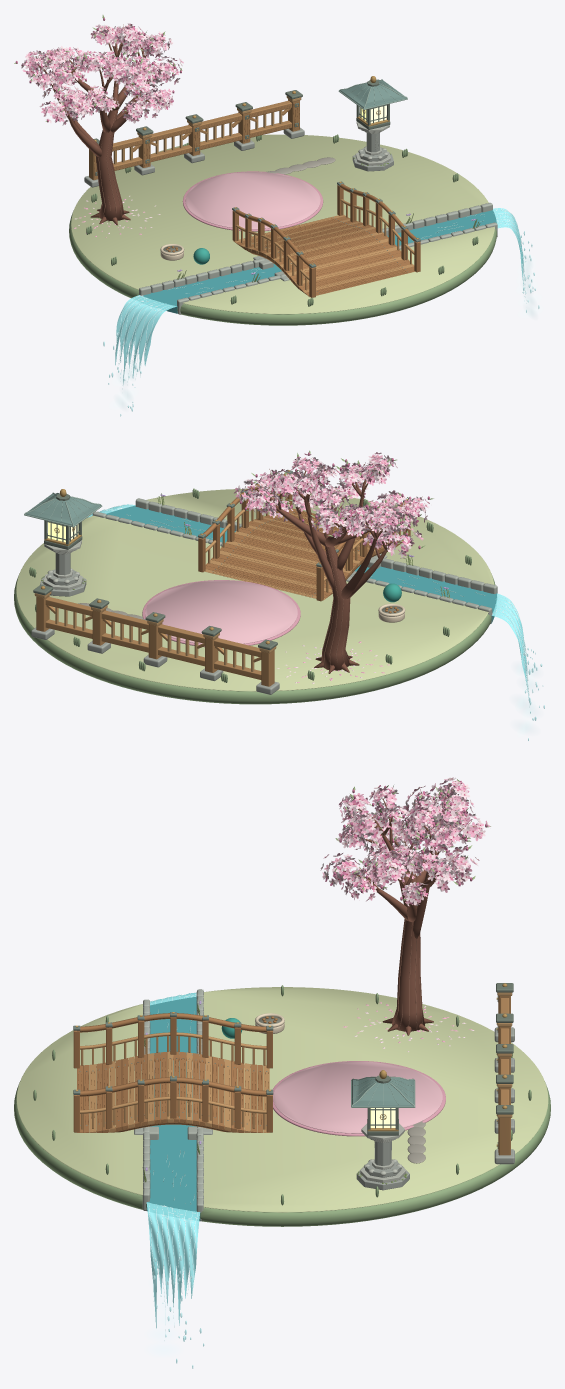
File: sakura.glb
The picture shows the model from 3 angles, top to bottom: view 1: azimuth 30°, elevation 25°; view 2: azimuth 150°, elevation 25°; view 3: azimuth 270°, elevation 25°; orthographic projection. The views are drawn at different scales.
Visible parts, largest first — view 1: Sakura_S_grass.004, River_v1_Bridge_cedar.001, Sakura_S_rug.004, Sakura_v2_Petal_pearl, Sakura_S_edge.004, Sakura_v2_Petal_blush, Garden_v3_Honey_cedar.001, River_v1_Bridge_board_alternate.001, Sakura_v2_Bark_warm_umber, River_v1_River_bank_stone.001, River_v1_River_jade_water.001, River_v1_Bridge_grain.001 (+11 smaller); view 2: Sakura_S_grass.004, Sakura_S_edge.004, Sakura_S_rug.004, River_v1_Bridge_cedar.001, Sakura_v2_Petal_pearl, Garden_v3_Honey_cedar.001, Sakura_v2_Bark_warm_umber, Sakura_v2_Petal_blush, River_v1_Bridge_board_alternate.001, River_v1_River_bank_stone.001, River_v1_River_jade_water.001, Garden_v3_Warm_grey_granite.001 (+13 smaller); view 3: Sakura_S_grass.004, River_v1_Bridge_cedar.001, Sakura_S_edge.004, Sakura_v2_Petal_pearl, Sakura_S_rug.004, Sakura_v2_Petal_blush, River_v1_Bridge_board_alternate.001, River_v1_River_jade_water.001, Sakura_v2_Bark_warm_umber, River_v1_River_bank_stone.001, Sakura_v2_Petal_rose, Garden_v3_Warm_grey_granite.001 (+8 smaller).
Boxes of the visible parts, x1=… form: Sakura_S_grass.004: x1=71, y1=134, x2=494, y2=314; River_v1_Bridge_cedar.001: x1=232, y1=184, x2=420, y2=297; Sakura_S_rug.004: x1=185, y1=172, x2=320, y2=229; Sakura_v2_Petal_pearl: x1=21, y1=23, x2=182, y2=233; Sakura_S_edge.004: x1=69, y1=134, x2=496, y2=325; Sakura_v2_Petal_blush: x1=21, y1=23, x2=183, y2=237; Garden_v3_Honey_cedar.001: x1=89, y1=99, x2=299, y2=180; River_v1_Bridge_board_alternate.001: x1=233, y1=199, x2=414, y2=293; Sakura_v2_Bark_warm_umber: x1=35, y1=24, x2=173, y2=225; River_v1_River_bank_stone.001: x1=139, y1=202, x2=497, y2=314; River_v1_River_jade_water.001: x1=142, y1=210, x2=496, y2=313; River_v1_Bridge_grain.001: x1=252, y1=217, x2=407, y2=293; Sakura_S_grass.004: x1=16, y1=488, x2=494, y2=691; Sakura_S_edge.004: x1=14, y1=488, x2=495, y2=704; Sakura_S_rug.004: x1=145, y1=580, x2=297, y2=644; River_v1_Bridge_cedar.001: x1=198, y1=472, x2=410, y2=601; Sakura_v2_Petal_pearl: x1=236, y1=454, x2=429, y2=683; Garden_v3_Honey_cedar.001: x1=36, y1=595, x2=274, y2=686; Sakura_v2_Bark_warm_umber: x1=251, y1=453, x2=422, y2=673; Sakura_v2_Petal_blush: x1=234, y1=452, x2=429, y2=682; River_v1_Bridge_board_alternate.001: x1=204, y1=493, x2=405, y2=600; River_v1_River_bank_stone.001: x1=92, y1=498, x2=497, y2=623; River_v1_River_jade_water.001: x1=106, y1=505, x2=496, y2=623; Garden_v3_Warm_grey_granite.001: x1=31, y1=553, x2=279, y2=694; Sakura_S_grass.004: x1=16, y1=987, x2=548, y2=1212; River_v1_Bridge_cedar.001: x1=73, y1=1013, x2=272, y2=1132; Sakura_S_edge.004: x1=14, y1=985, x2=550, y2=1226; Sakura_v2_Petal_pearl: x1=320, y1=777, x2=488, y2=1051; Sakura_S_rug.004: x1=273, y1=1061, x2=442, y2=1133; Sakura_v2_Petal_blush: x1=320, y1=778, x2=490, y2=1042; River_v1_Bridge_board_alternate.001: x1=80, y1=1032, x2=269, y2=1132; River_v1_River_jade_water.001: x1=146, y1=996, x2=200, y2=1221; Sakura_v2_Bark_warm_umber: x1=342, y1=784, x2=476, y2=1035; River_v1_River_bank_stone.001: x1=134, y1=989, x2=212, y2=1221; Sakura_v2_Petal_rose: x1=325, y1=778, x2=487, y2=903; Garden_v3_Warm_grey_granite.001: x1=356, y1=1027, x2=514, y2=1190.
Bounding box in the file's own units: 7.62 × 4.9 × 6.4.
Materials: 43 (1 with a texture image).
